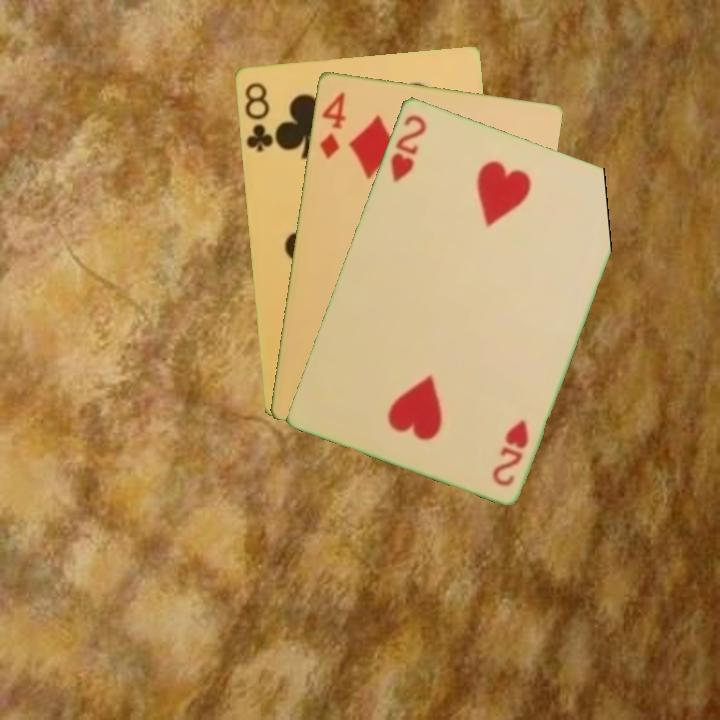2h: (386, 110, 429, 185), (488, 415, 531, 489)
4d: (316, 88, 348, 162)
8c: (241, 78, 275, 155)
